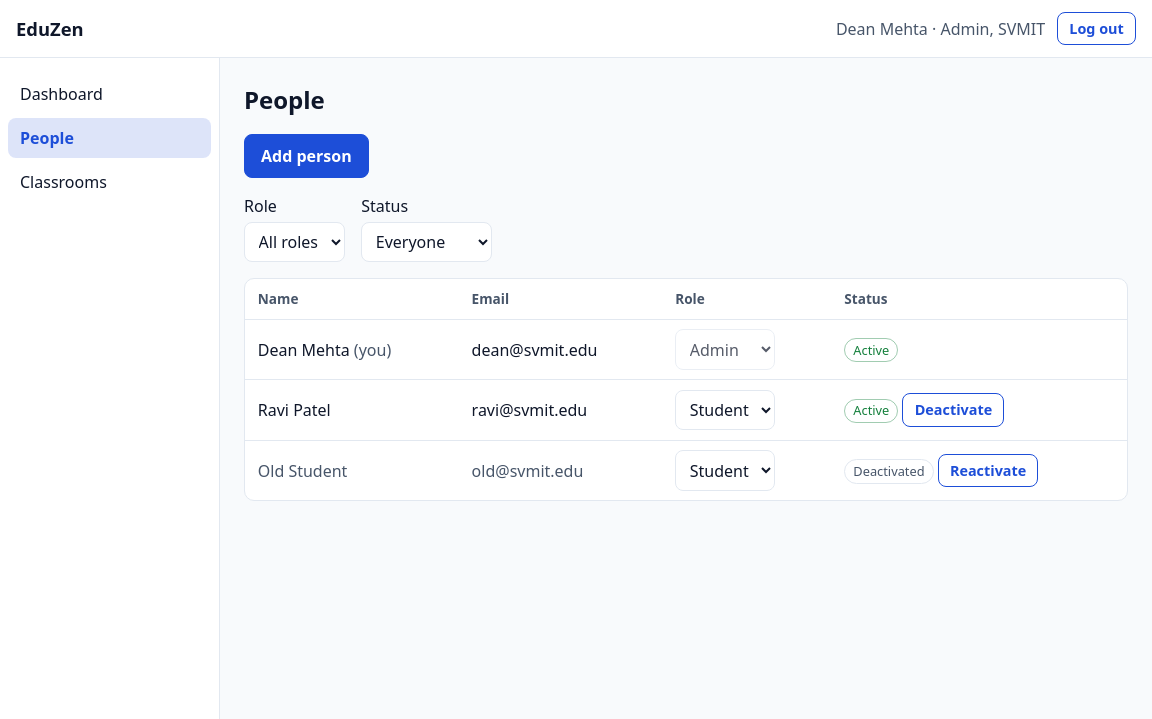
Test: People page › shows the backend's message when the email is taken
Click the button "Add person" at (306, 156), box [244, 134, 369, 178]
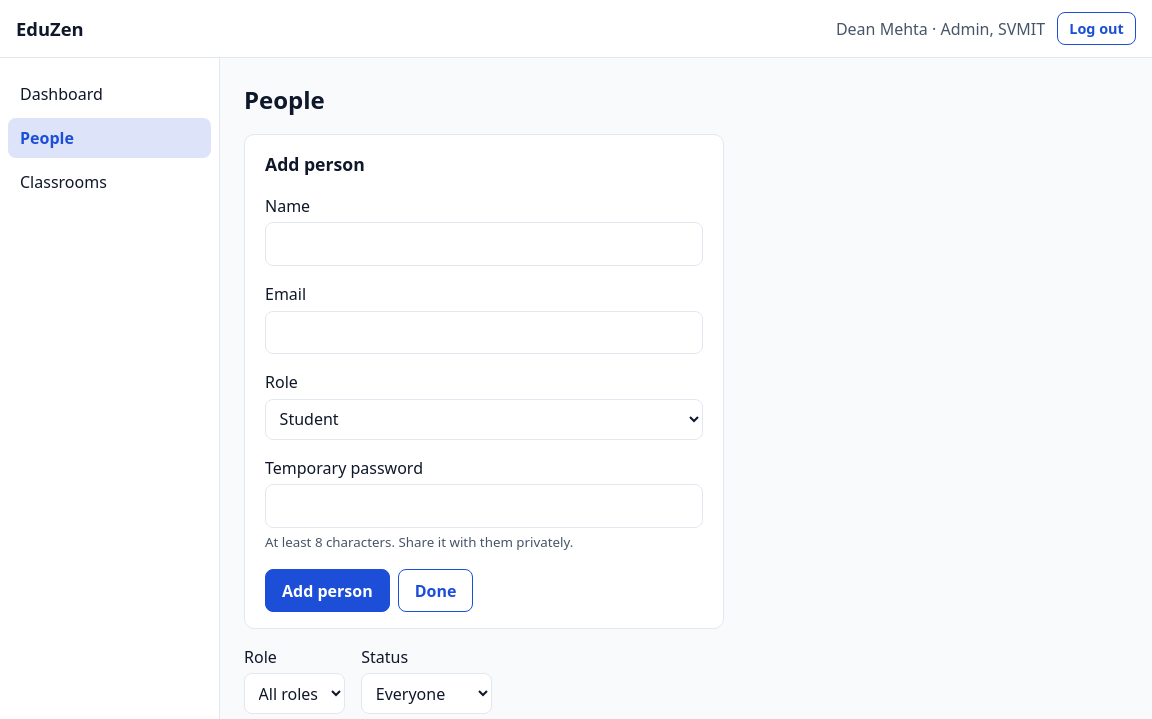
Type "Ravi again" into the field labelled "Name" at (484, 244), box [265, 222, 703, 266]
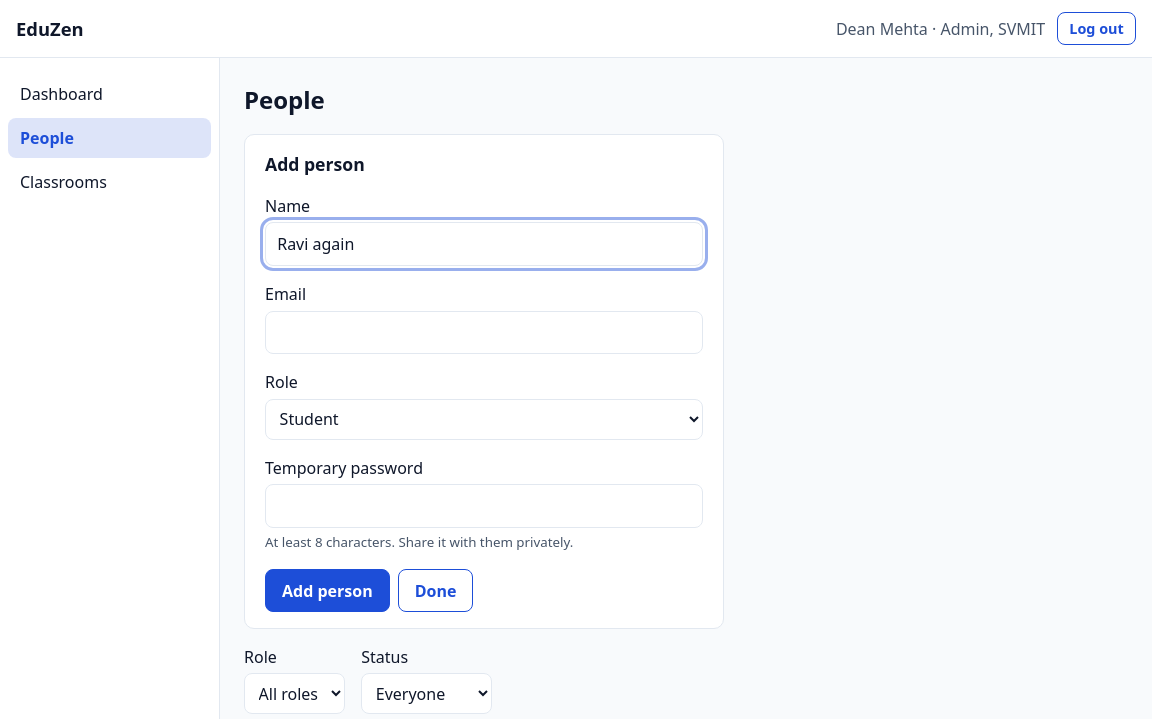
Type "ravi@svmit.edu" into the field labelled "Email" at (484, 333), box [265, 311, 703, 354]
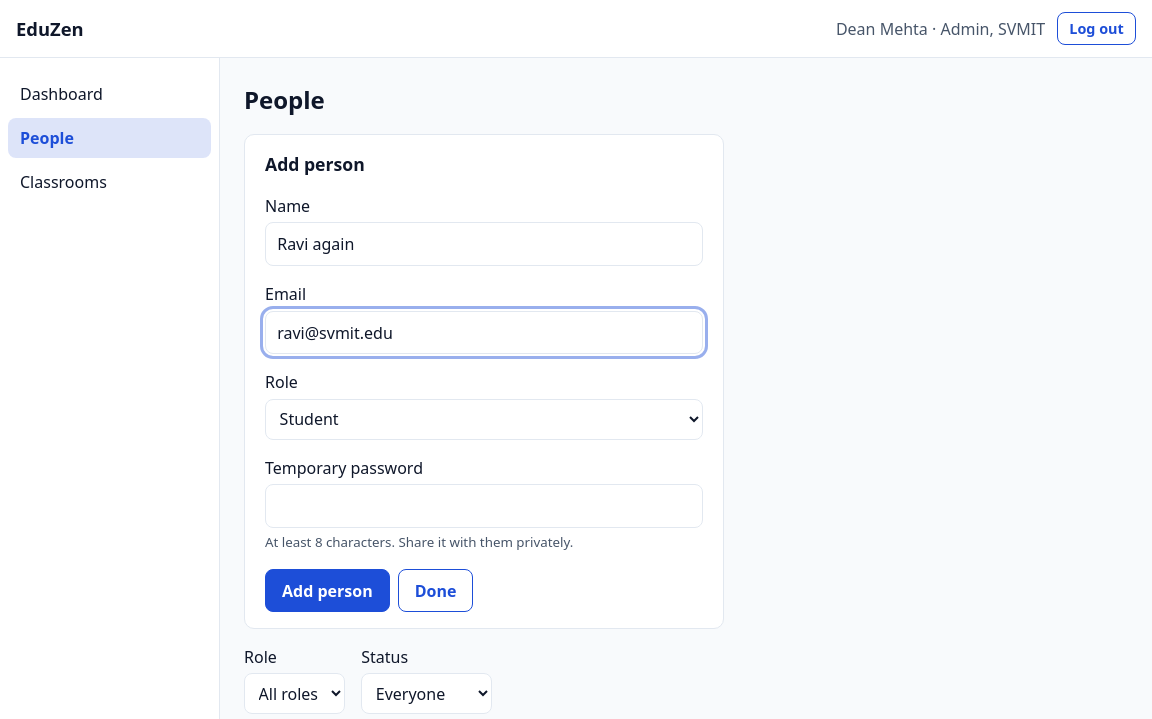
Type "temp-pass-123" into the password field labelled "Temporary password" at (484, 506), box [265, 484, 703, 528]
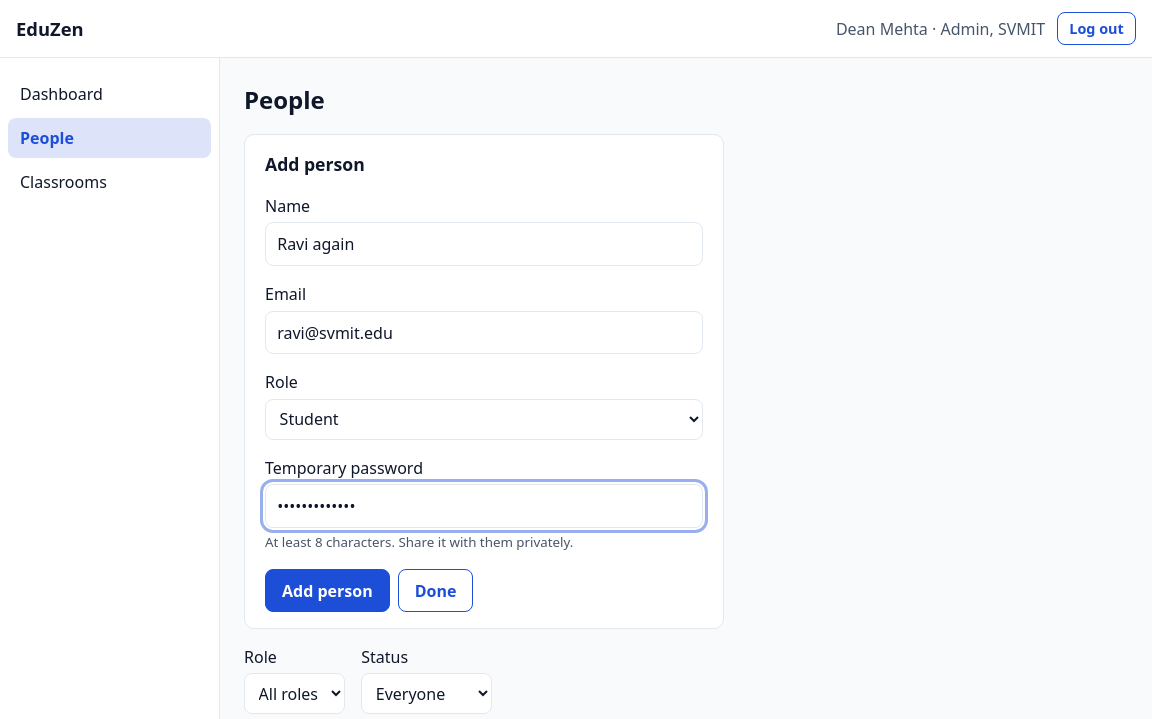
Click the button "Add person" at (327, 590), box [265, 569, 390, 612]
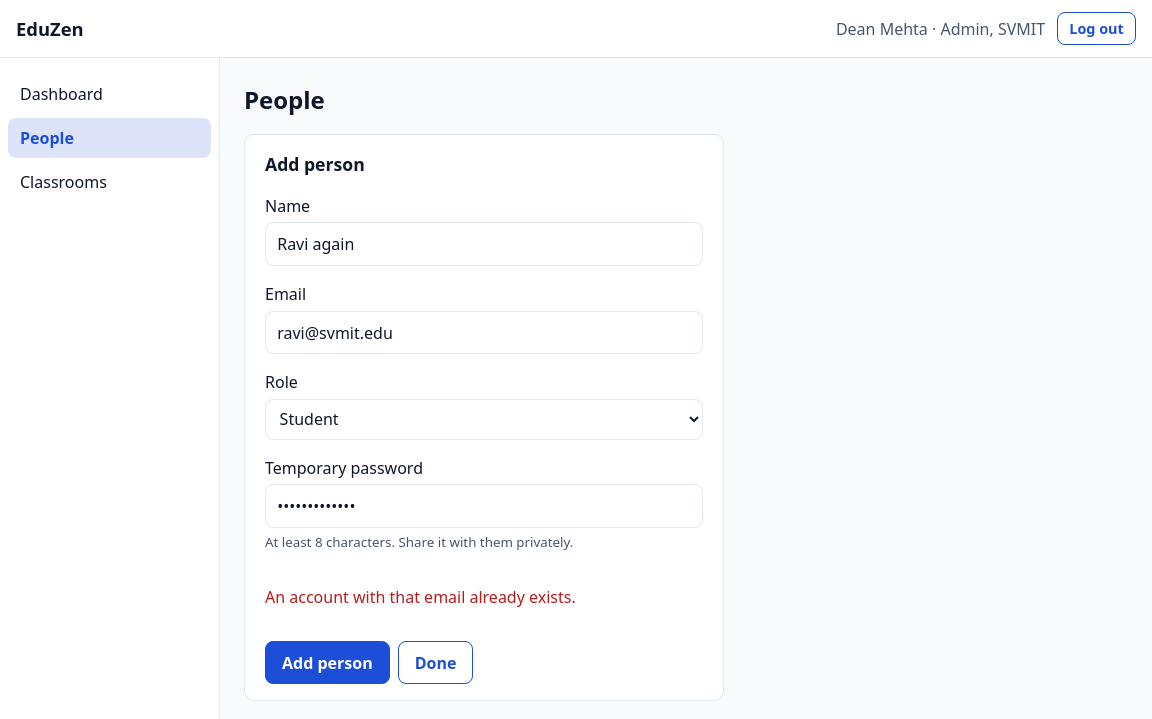
Expected: the message reads "An account with that email already exists.", [265, 586, 576, 608]
